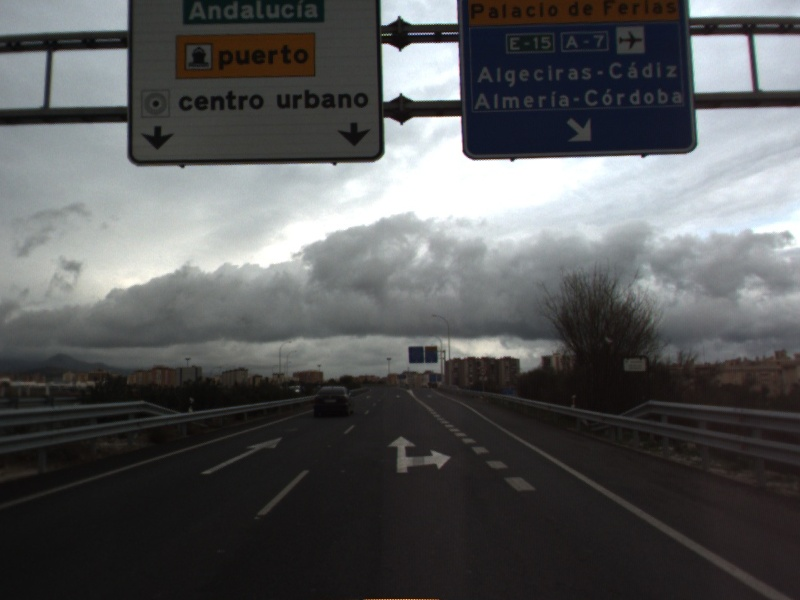STRAIGHT: (198, 435, 285, 476)
STRAIGHT_RIGHT: (385, 434, 454, 475)
